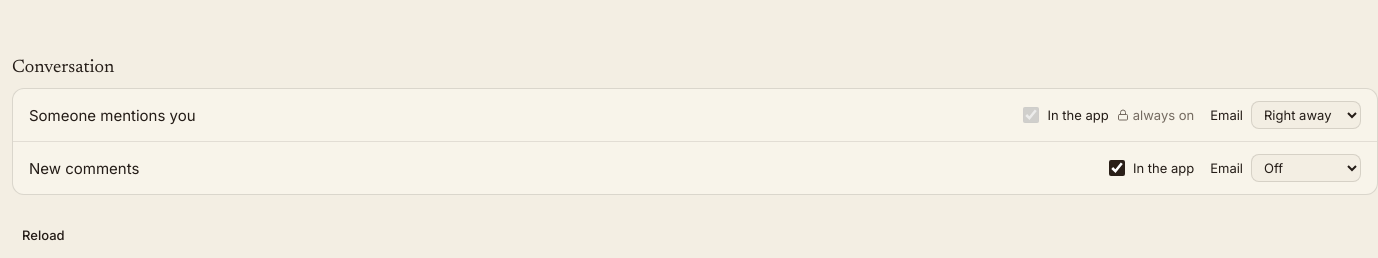
Test case: notification preferences (task 096) › saves a change, and puts it back when the save fails
The width and height of the screenshot is (1378, 258).
Select "Daily digest" in the dropdown named "Email for “New comments”". click: (1306, 168)
box: [1251,154,1361,182]
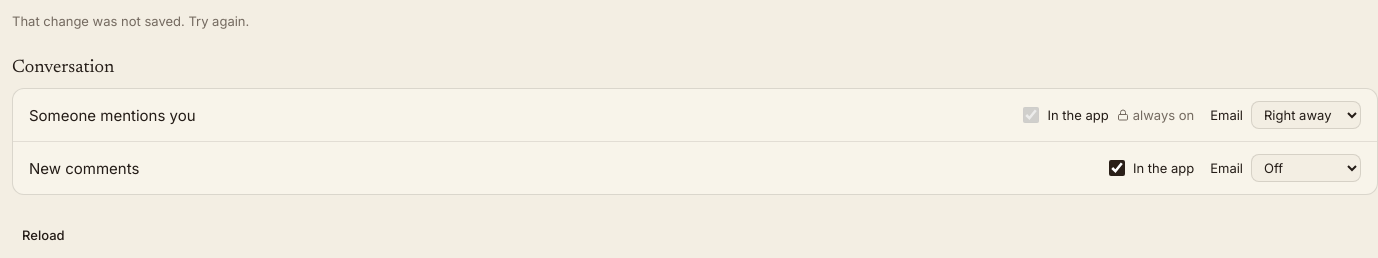
Expected: the text "That change was not saved. Try again." is shown, [12,13,249,29]
